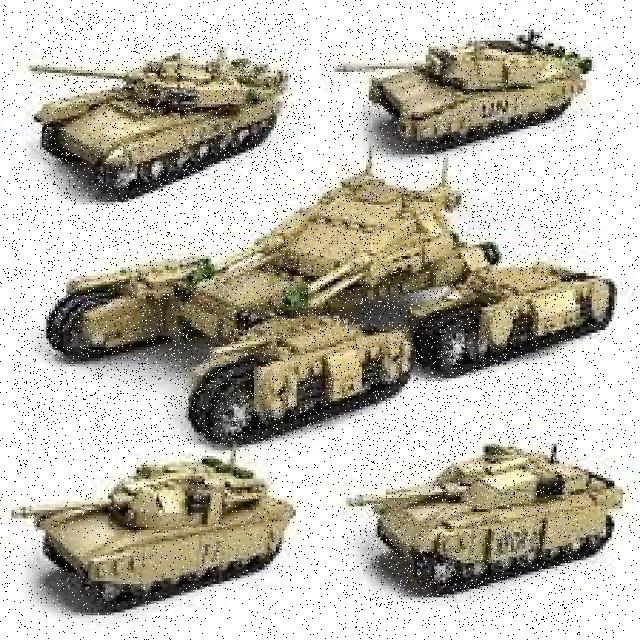MIL_MBT: (12, 170, 577, 448), (5, 445, 320, 620), (42, 14, 305, 190), (337, 444, 578, 631), (328, 30, 575, 176)
